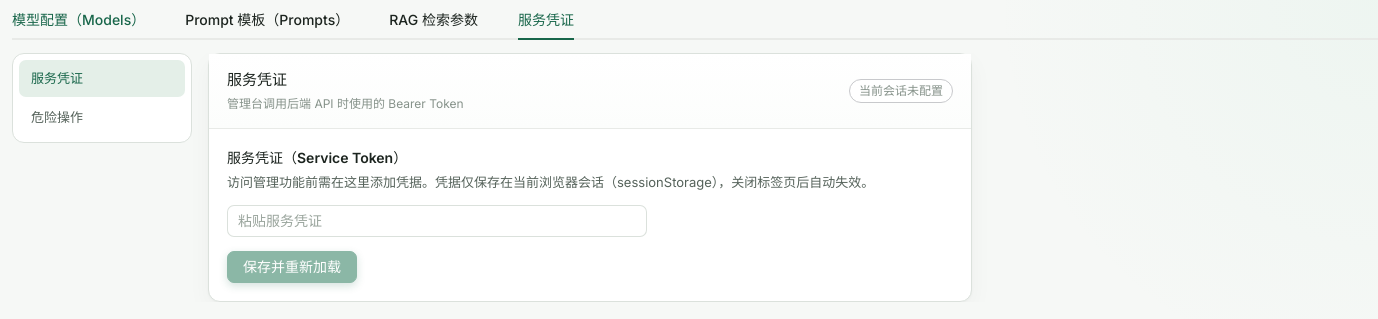
AdminStudio settings › accepts and saves a service access credential
Check: the tab with class "is-active" reads "服务凭证", box top-left (518, 11), bottom-right (574, 28)
In the password field with placeholder "粘贴服务凭证": [437, 221] box top-left (238, 206), bottom-right (636, 236), type "session-token"
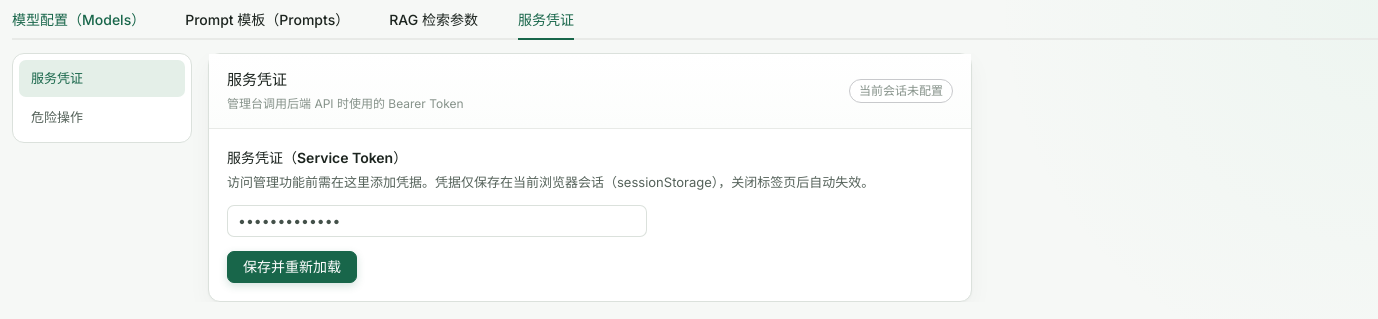
Click the button "保存并重新加载": [292, 267] box top-left (227, 251), bottom-right (357, 283)
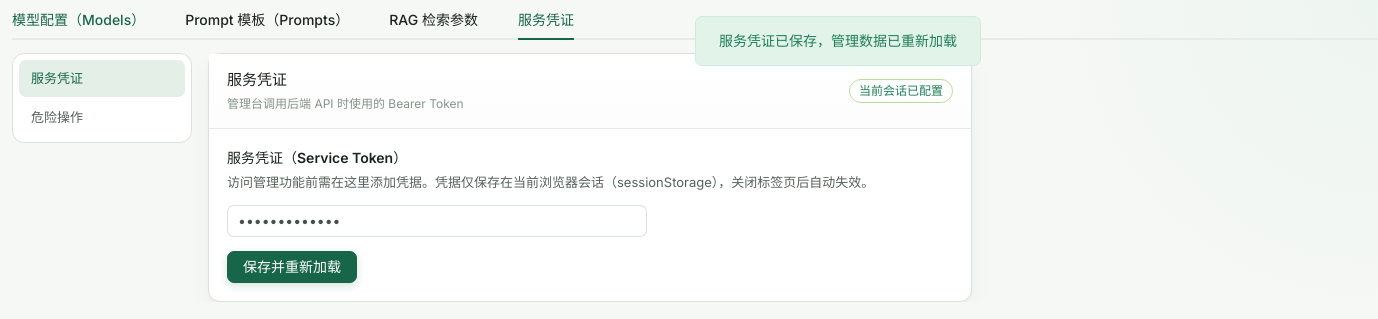
Check: the text "当前会话已配置" is shown, box top-left (859, 85), bottom-right (943, 97)
